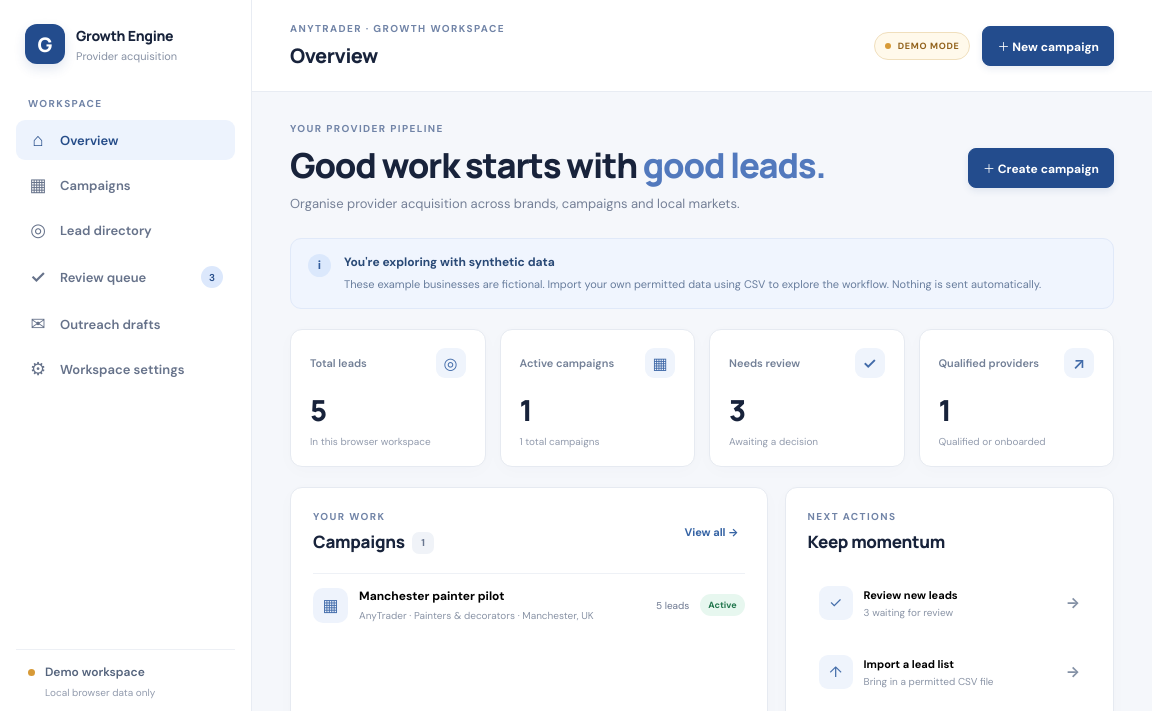
Scenario: Growth Engine interactive workflows › creates a campaign and shows a confirmation
The width and height of the screenshot is (1152, 711).
Click the button "＋ New campaign": (1048, 46) top-left (982, 26), bottom-right (1114, 66)
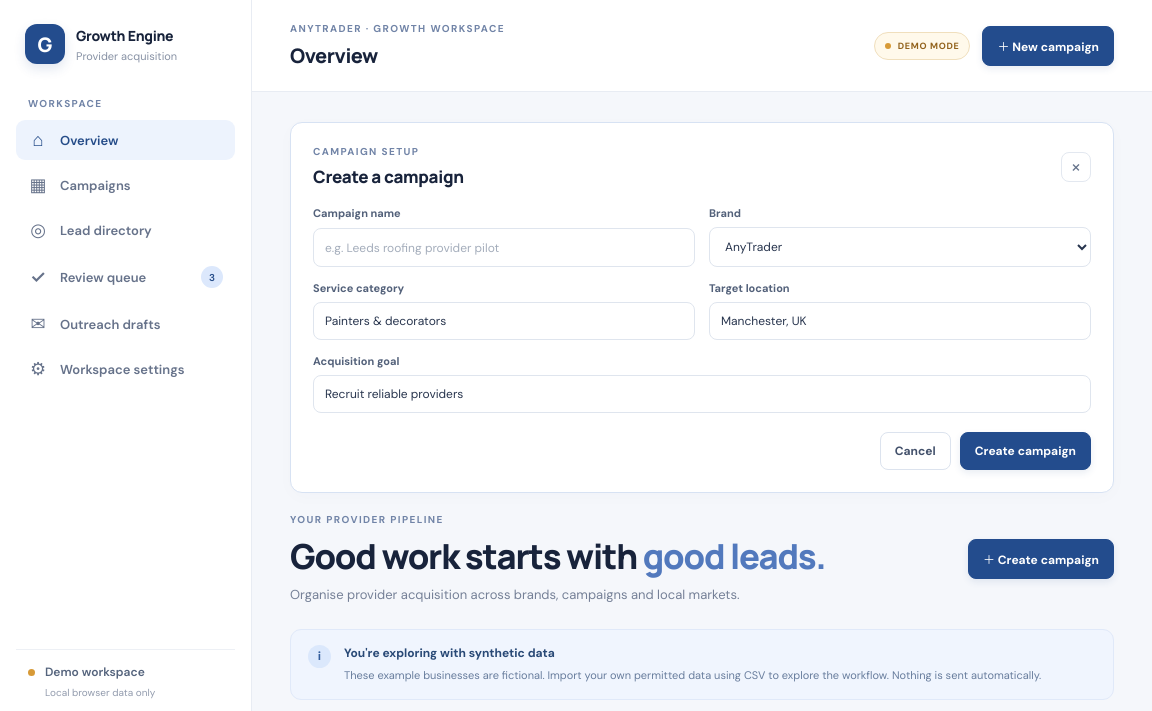
In the field labelled "Campaign name": (504, 248) top-left (313, 228), bottom-right (695, 267), type "Leeds roofing pilot"
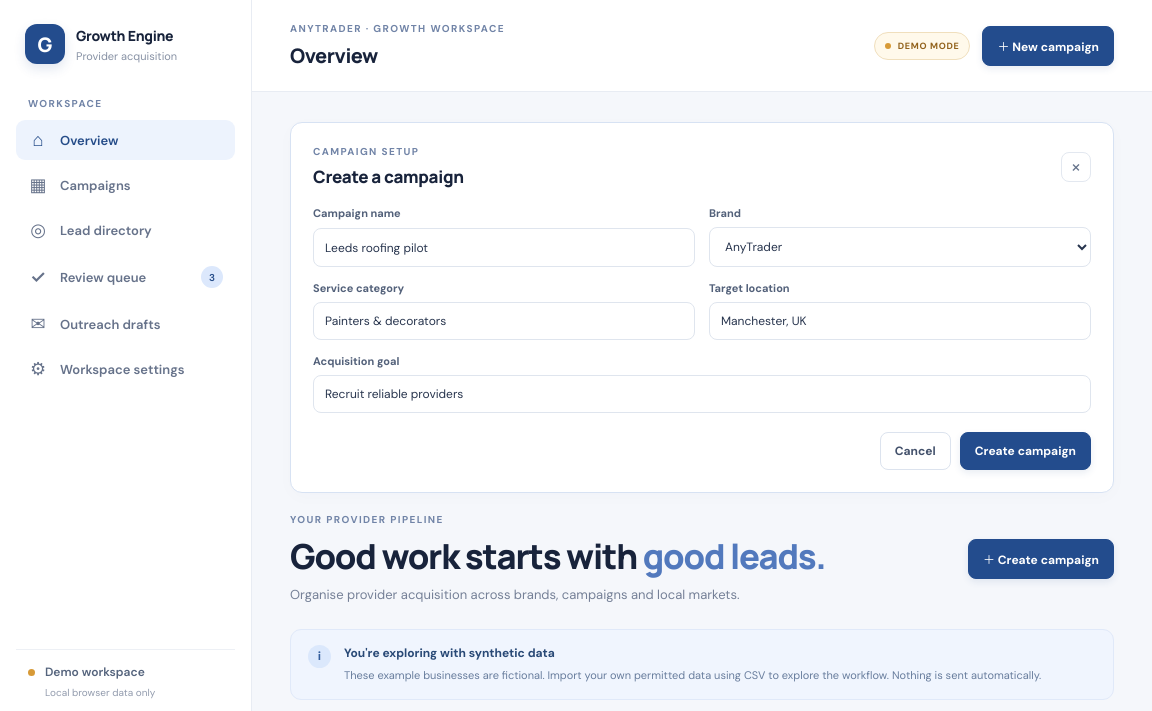
Replace the text in the field labelled "Service category" with "Roofers": (504, 321) top-left (313, 302), bottom-right (695, 340)
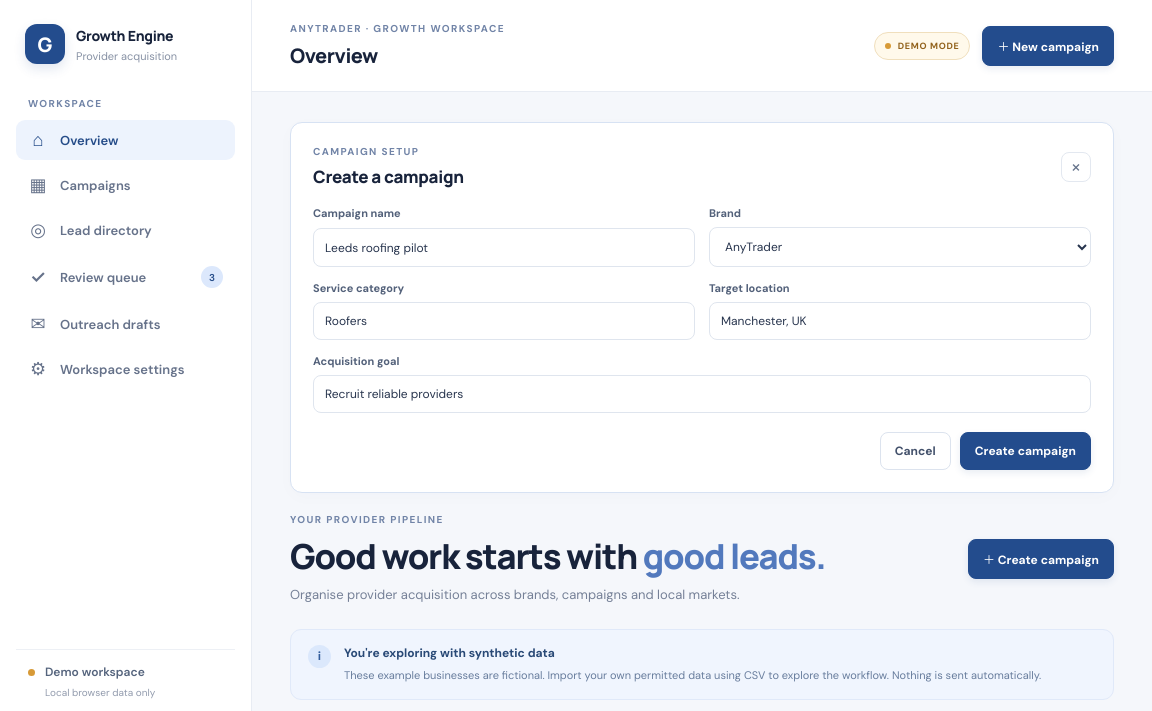
Replace the text in the field labelled "Target location" with "Leeds, UK": (900, 321) top-left (709, 302), bottom-right (1091, 340)
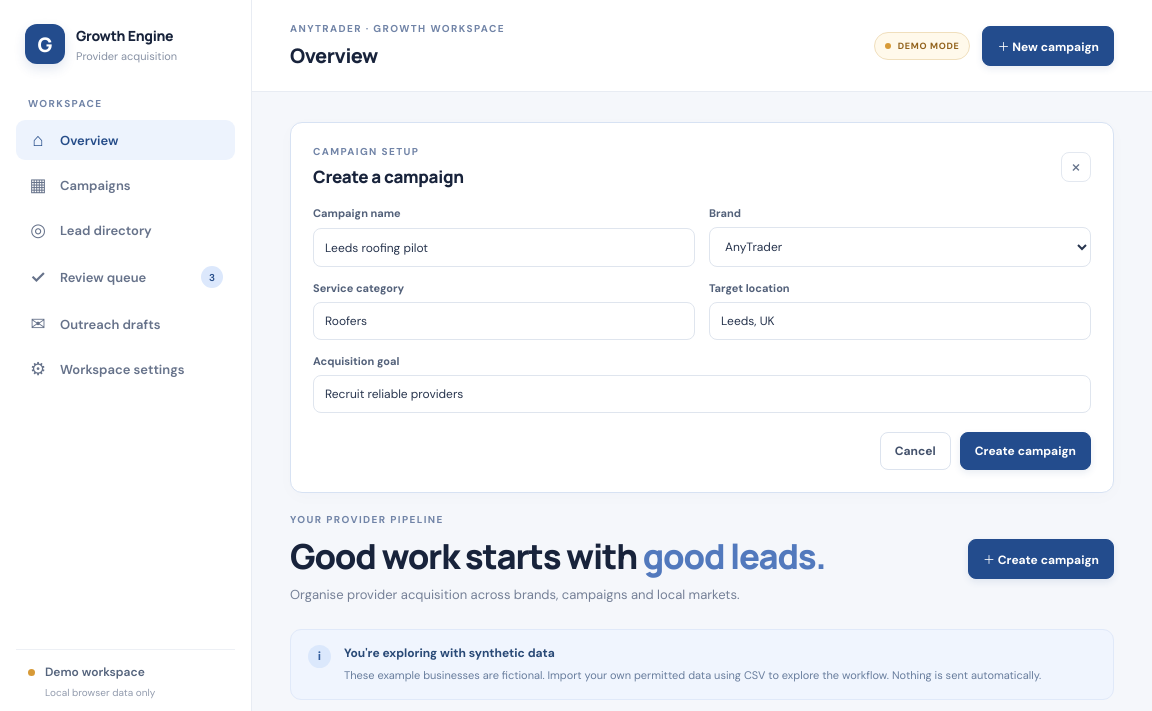
Click the button "Create campaign": (1025, 451) top-left (960, 432), bottom-right (1091, 470)
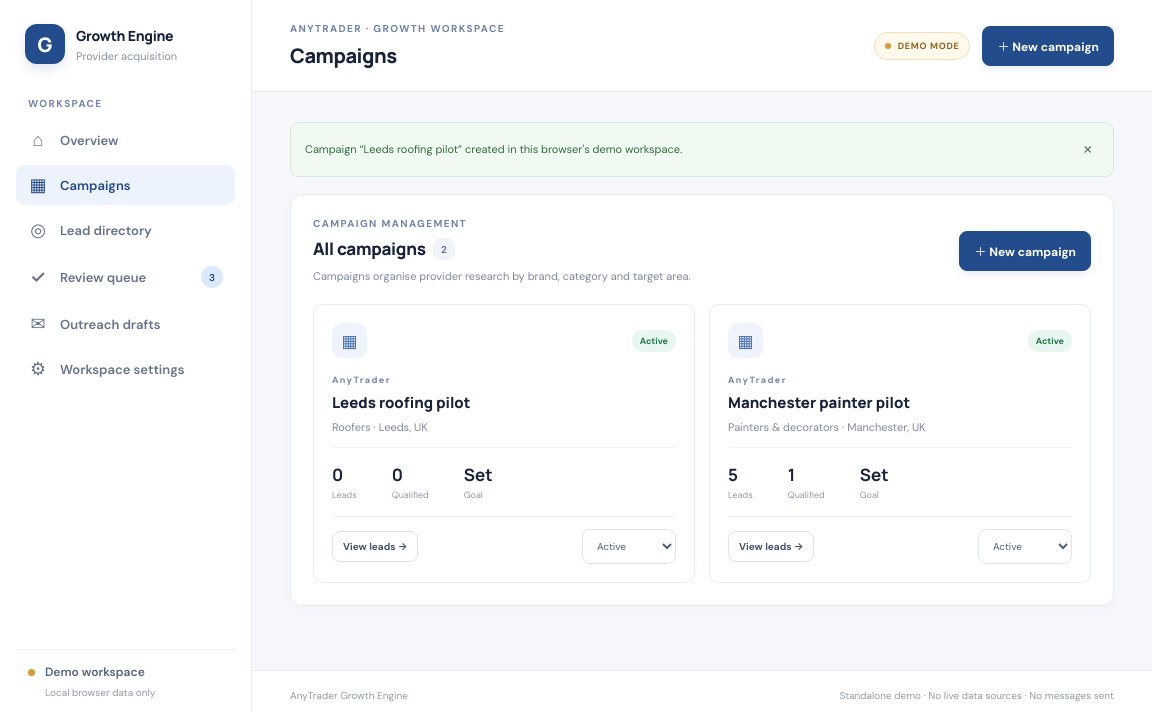
Expected: the heading "Leeds roofing pilot" is shown, top-left (332, 392), bottom-right (470, 413)
Expected: the message shows "created in this browser's demo workspace", top-left (305, 142), bottom-right (682, 156)
